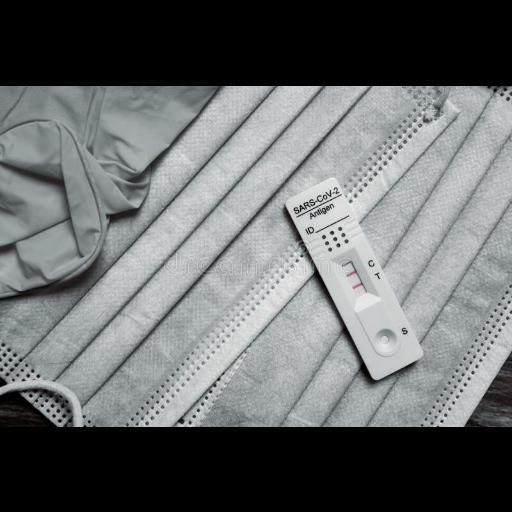Pos: (285, 176, 423, 379)
